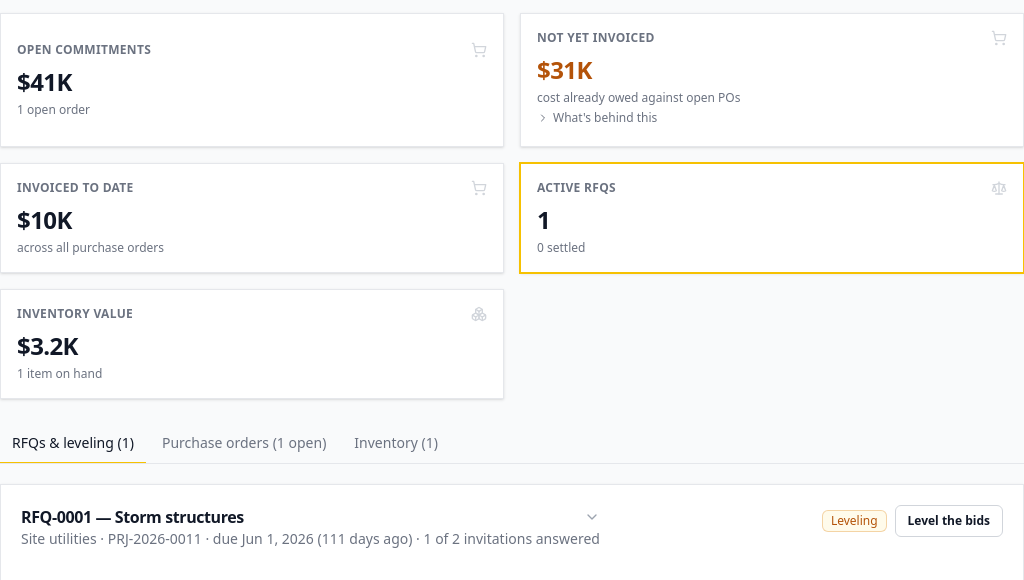
Test: the boxes across the top › opens the stock list from the inventory value
Click the button with aria-label "Show the stock on hand".
click(75, 314)  # box [0,289,504,399]
(page scrolled)
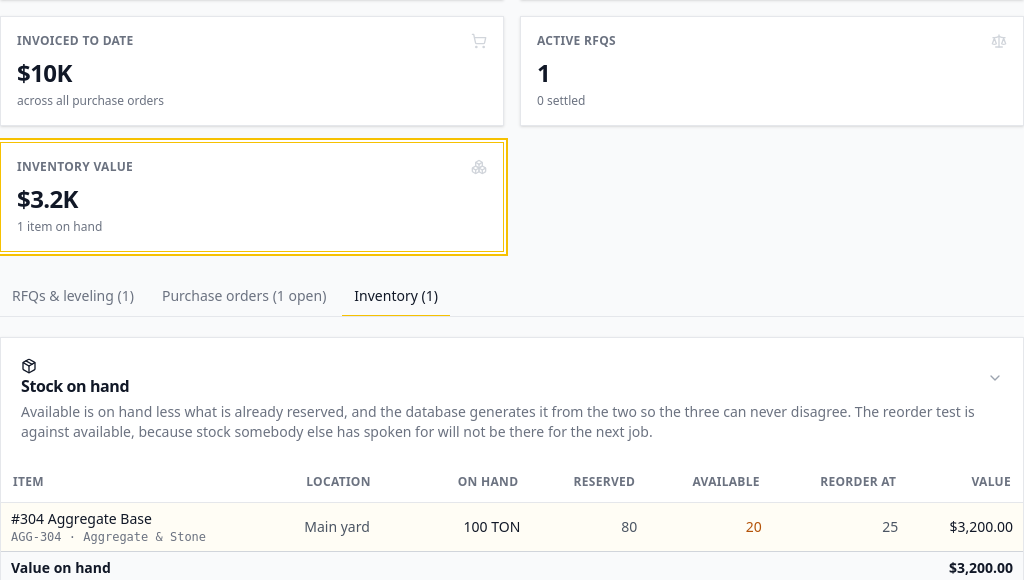
Now the text "#304 Aggregate Base" is shown, box [11,509,152,528]
